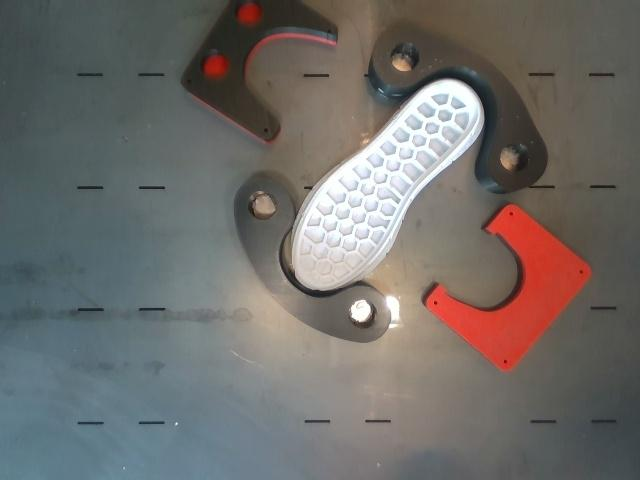shoes: (294, 83, 479, 290)
